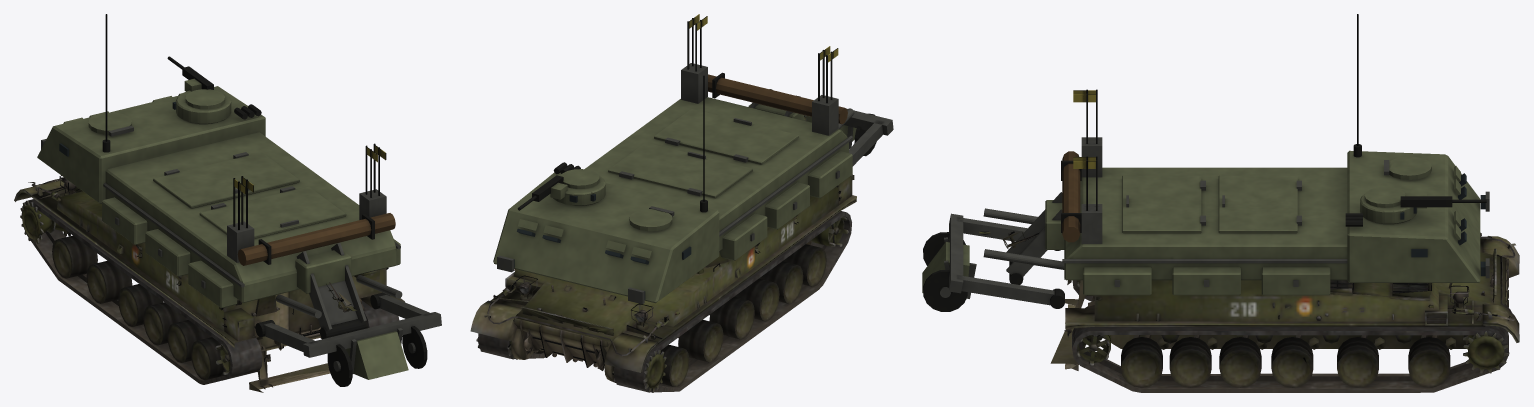
Rendered from mnly.glb.
3 renders of one model, left to right at view 1: azimuth 30°, elevation 25°; view 2: azimuth 150°, elevation 25°; view 3: azimuth 270°, elevation 25°, orthographic. The views are drawn at different scales.
Visible parts, largest first — view 1: hull; view 2: hull; view 3: hull.
Boxes of the visible parts, bbox=[...] form: hull: bbox=[14, 14, 441, 392]; hull: bbox=[470, 14, 893, 392]; hull: bbox=[922, 14, 1519, 392].
Bounding box in the file's own units: 3.2 × 4.82 × 8.69.
Materials: 1 (1 with a texture image).
